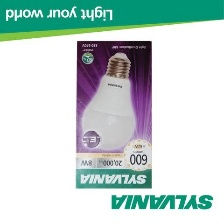book: (72, 38, 156, 190)
